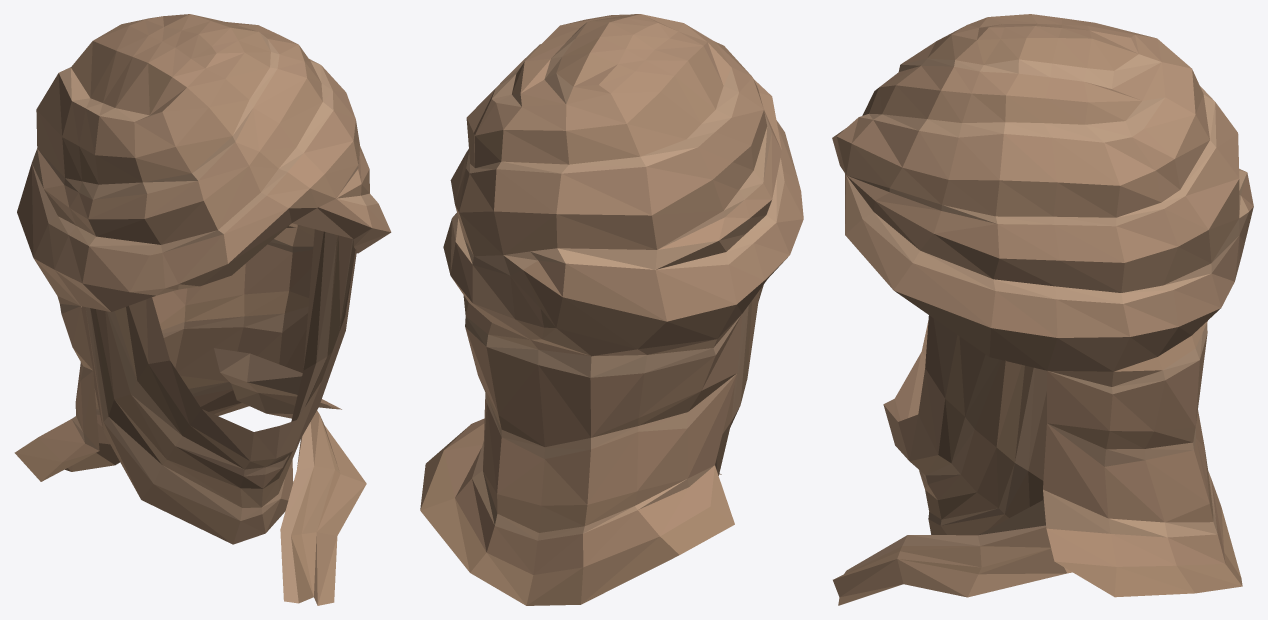
Rendered from desertTurbanOpenBeigeFemale.glb.
3 views of the same model, side by side, from view 1: azimuth 30°, elevation 25°; view 2: azimuth 150°, elevation 25°; view 3: azimuth 270°, elevation 25° (orthographic). The views are drawn at different scales.
Visible parts, largest first — view 1: desertTurbanOpenBeigeFemale; view 2: desertTurbanOpenBeigeFemale; view 3: desertTurbanOpenBeigeFemale.
Boxes of the visible parts, box(x1,y1,x2,y2) form: desertTurbanOpenBeigeFemale: box(14, 14, 391, 605); desertTurbanOpenBeigeFemale: box(420, 14, 803, 605); desertTurbanOpenBeigeFemale: box(832, 14, 1253, 605).
Size of the model in its own units: 0.2811 by 0.4488 by 0.3069.
